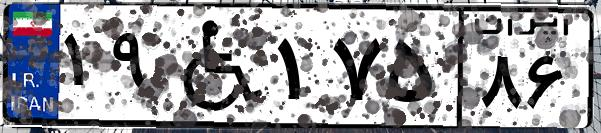1: (270, 28, 330, 110), (57, 26, 110, 100)
5: (385, 28, 445, 110)
6: (525, 38, 570, 115)
7: (330, 28, 385, 110)
8: (475, 38, 525, 113)
9: (110, 28, 158, 98)
ژ (معلولین و جانبازان): (158, 12, 270, 120)
